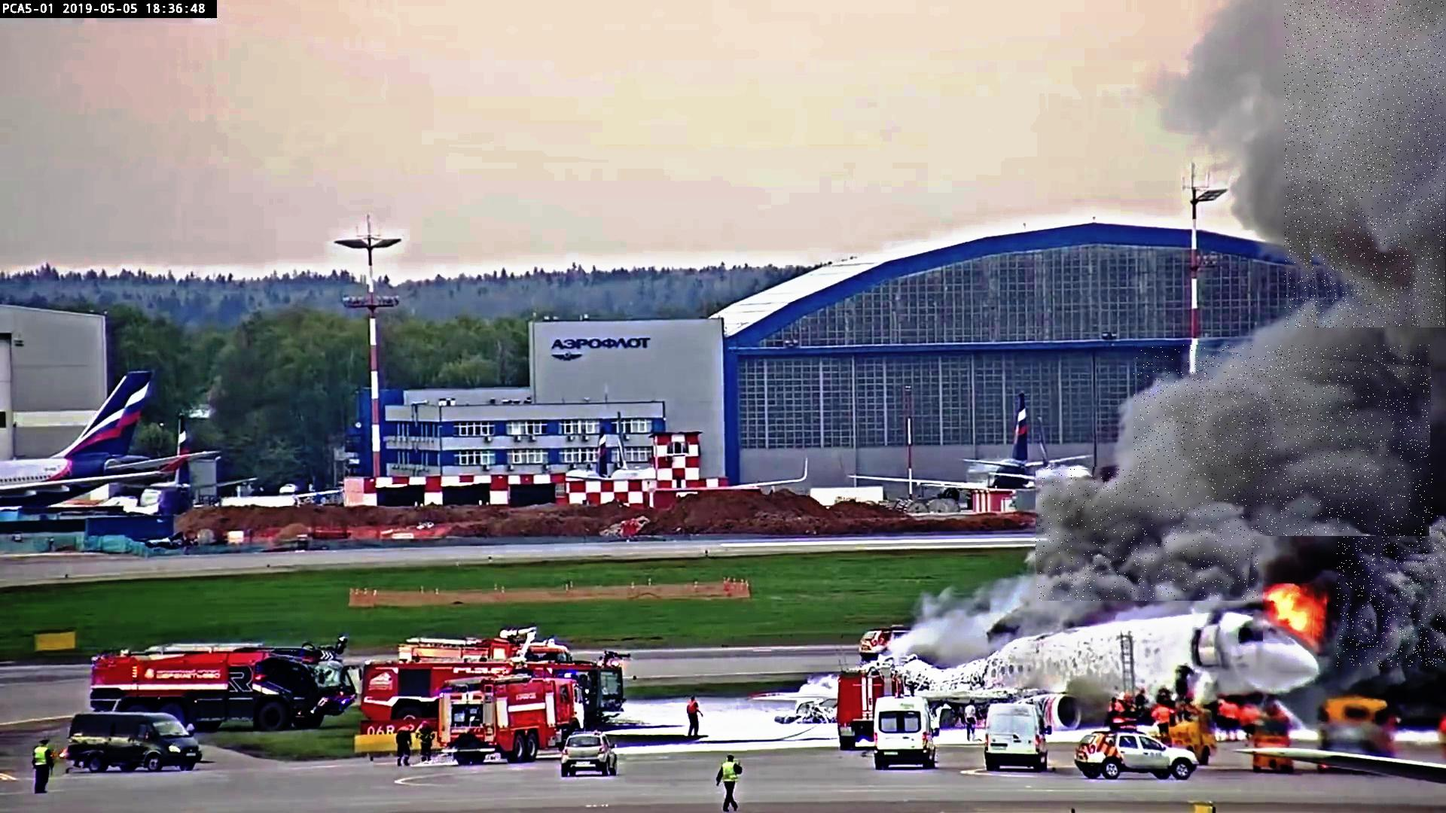fire: (1264, 584, 1317, 643)
smoke: (1134, 345, 1433, 536), (1284, 0, 1445, 327), (1036, 467, 1261, 601), (1337, 516, 1446, 667)
